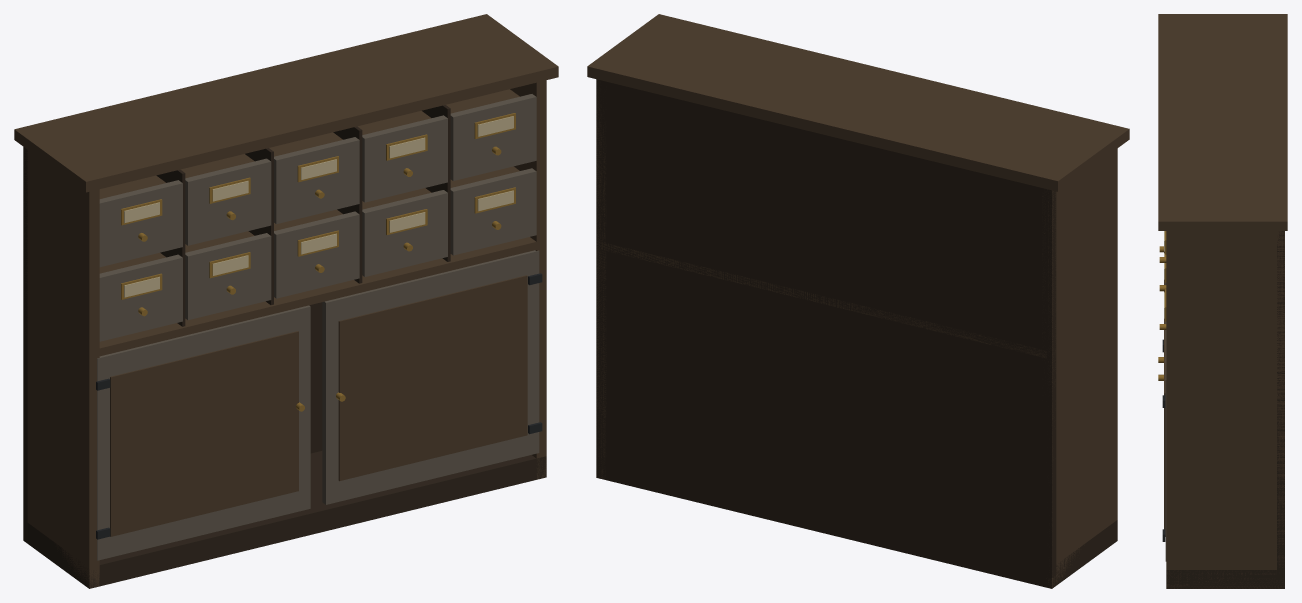
Rendered from drawer-cabinet.glb.
3 renders of one model, left to right at view 1: azimuth 30°, elevation 25°; view 2: azimuth 150°, elevation 25°; view 3: azimuth 270°, elevation 25°, orthographic. The views are drawn at different scales.
Parts seen in each view (by area): view 1: woodOld, face (×10), woodGrey, woodNight, drawer14, drawer11, drawer12, drawer13, drawer10, drawer03, drawer04, drawer01 (+2 smaller); view 2: woodNight, woodOld; view 3: woodOld, woodNight, woodGrey.
Part boxes in pixels (x1=…): woodOld: x1=14, y1=14, x2=558, y2=588; face (×10): x1=99, y1=94, x2=536, y2=341; woodGrey: x1=97, y1=250, x2=539, y2=560; woodNight: x1=23, y1=105, x2=546, y2=588; drawer14: x1=446, y1=89, x2=519, y2=155; drawer11: x1=180, y1=154, x2=254, y2=220; drawer12: x1=269, y1=132, x2=342, y2=198; drawer13: x1=357, y1=110, x2=431, y2=176; drawer10: x1=99, y1=175, x2=165, y2=241; drawer03: x1=362, y1=188, x2=431, y2=251; drawer04: x1=450, y1=166, x2=519, y2=229; drawer01: x1=185, y1=231, x2=254, y2=294; woodNight: x1=596, y1=79, x2=1117, y2=588; woodOld: x1=587, y1=14, x2=1129, y2=587; woodOld: x1=1158, y1=14, x2=1287, y2=588; woodNight: x1=1166, y1=231, x2=1284, y2=588; woodGrey: x1=1165, y1=283, x2=1166, y2=561.
Bounding box in the file's own units: 1.86 × 1.55 × 0.49.
